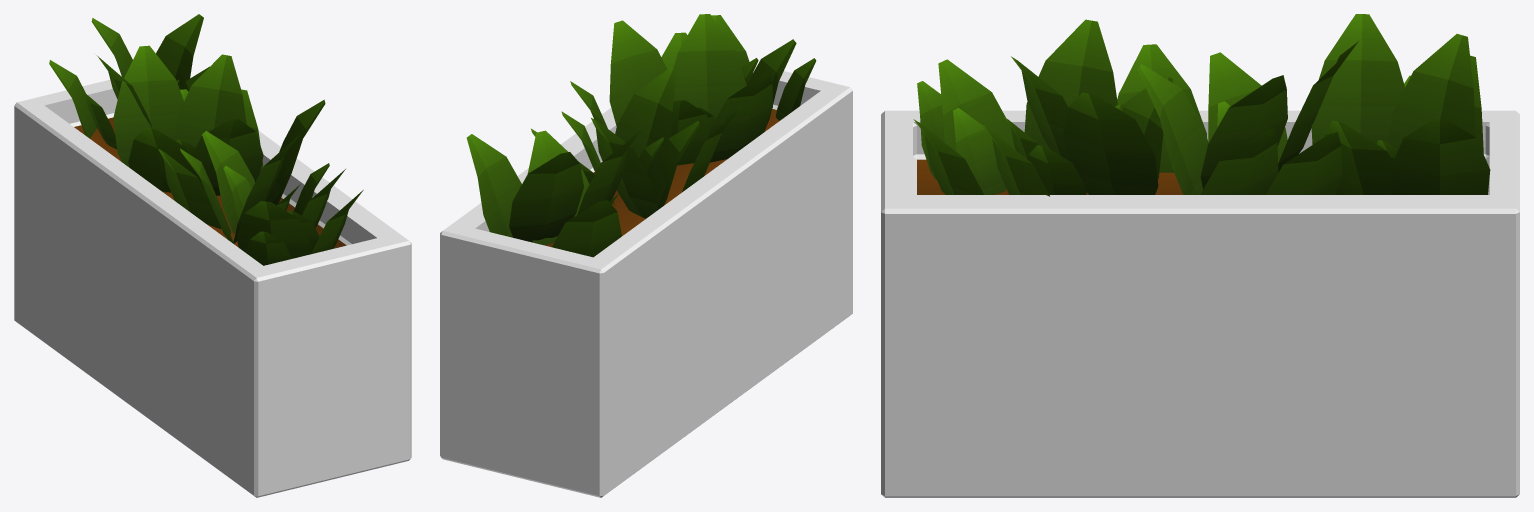
File: SM_Build_PflanzenTop_Weiss.fbx
3 renders of one model, left to right at view 1: azimuth 30°, elevation 25°; view 2: azimuth 150°, elevation 25°; view 3: azimuth 270°, elevation 25°, orthographic. The views are drawn at different scales.
Visible parts, largest first — view 1: PflanzenTop_Weiß; view 2: PflanzenTop_Weiß; view 3: PflanzenTop_Weiß.
Boxes of the visible parts, x1,y1,x2,y2 form: PflanzenTop_Weiß: (14,14,411,497); PflanzenTop_Weiß: (440,14,852,497); PflanzenTop_Weiß: (881,14,1519,497).
Bounding box in the file's own units: 0.603 × 1.11 × 1.6.
